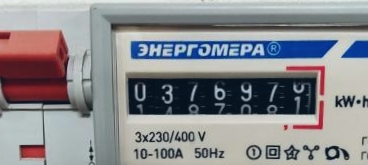0: (132, 79, 147, 101)
1: (290, 94, 303, 114)
3: (159, 82, 175, 104)
6: (211, 77, 227, 100)
7: (184, 78, 200, 102), (265, 79, 280, 102)
9: (237, 79, 253, 102)
screen: (116, 59, 328, 136)
